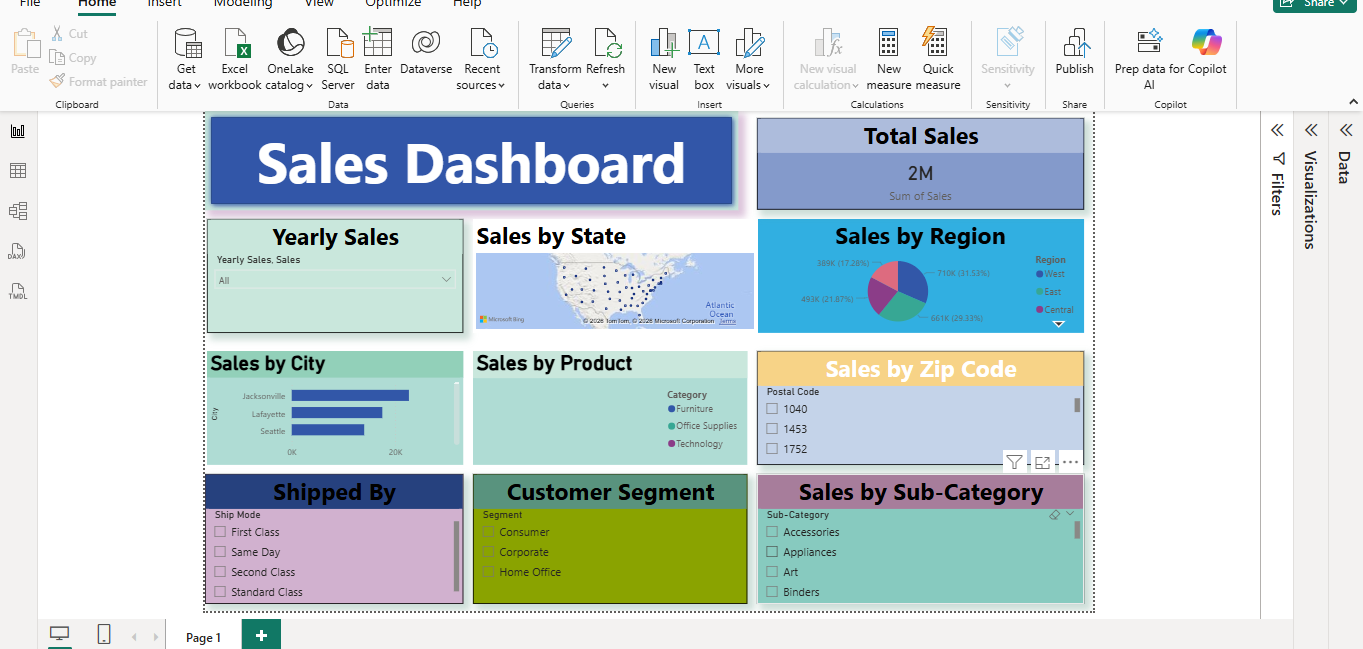

The dashboard page shown, as its layout file describes it:
{"tool":"powerbi","page":{"name":"Page 1","canvas":[1280,720],"ordinal":0},"visuals":[{"type":"shape","box":[0,0,1280.2,142.6],"z":0},{"type":"pieChart","title":"Sales by Region","fields":{"Category":["Sales Report (2).Region"],"Y":["Sum(Sales Report (2).Sales)"]},"box":[794.9,142.6,470.9,177.1],"z":1000},{"type":"card","title":"Total Sales","fields":{"Values":["Sum(Sales Report (2).Sales)"]},"box":[2.9,142.6,368.6,177.1],"z":2000},{"type":"slicer","title":"Sales by Zip Code","fields":{"Values":["Sales Report (2).Postal Code"]},"box":[794.9,332.6,470.9,177.1],"z":4000},{"type":"slicer","title":"Shipped By","fields":{"Values":["Sales Report (2).Ship Mode"]},"box":[0,509.8,371.5,200.2],"z":5000},{"type":"slicer","title":"Customer Segment","fields":{"Values":["Sales Report (2).Segment"]},"box":[385.9,509.8,394.6,200.2],"z":6000},{"type":"slicer","title":"Sales by Sub-Category","fields":{"Values":["Sales Report (2).Sub-Category"]},"box":[794.9,509.8,470.9,200.2],"z":7000},{"type":"donutChart","title":"Sales by Product","fields":{"Category":["Sales Report (2).Category"]},"box":[386,333,395,177],"z":8000},{"type":"map","title":"Sales by State","fields":{"Category":["Sales Report (2).State"]},"box":[385.9,142.6,409,177.1],"z":9000},{"type":"clusteredBarChart","title":"Sales by City","fields":{"Category":["Sales Report (2).City"],"Y":["Max(Sales Report (2).Sales)"]},"box":[3,333,369,177],"z":9001}]}

Visuals, with their boxes on the page's 1280x720 design canvas (x1, y1, x2, y2). These are canvas units, not pixel positions in the 1363x649 screenshot, which may show the page scaled, cropped or inside an application window:
shape: region(0, 0, 1280, 143)
"Sales by Region" pieChart: region(795, 143, 1266, 320)
"Total Sales" card: region(3, 143, 372, 320)
"Sales by Zip Code" slicer: region(795, 333, 1266, 510)
"Shipped By" slicer: region(0, 510, 372, 710)
"Customer Segment" slicer: region(386, 510, 780, 710)
"Sales by Sub-Category" slicer: region(795, 510, 1266, 710)
"Sales by Product" donutChart: region(386, 333, 781, 510)
"Sales by State" map: region(386, 143, 795, 320)
"Sales by City" clusteredBarChart: region(3, 333, 372, 510)
